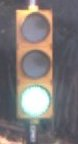Green: (10, 4, 61, 129)
